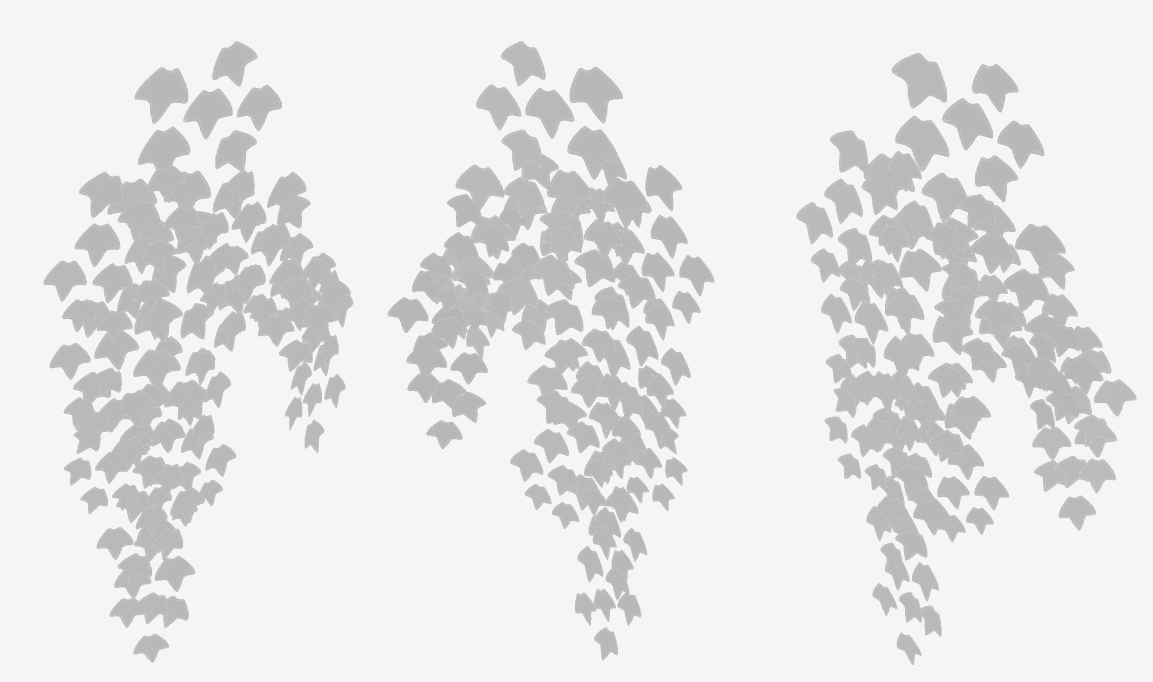
The model's file is ivy.obj.
The picture shows the model from 3 angles, left to right: view 1: azimuth 30°, elevation 25°; view 2: azimuth 150°, elevation 25°; view 3: azimuth 330°, elevation 25°; orthographic projection. The views are drawn at different scales.
Bounding box in the file's own units: 1.54 × 2.6 × 0.219.
Materials: 1 (1 with a texture image).
